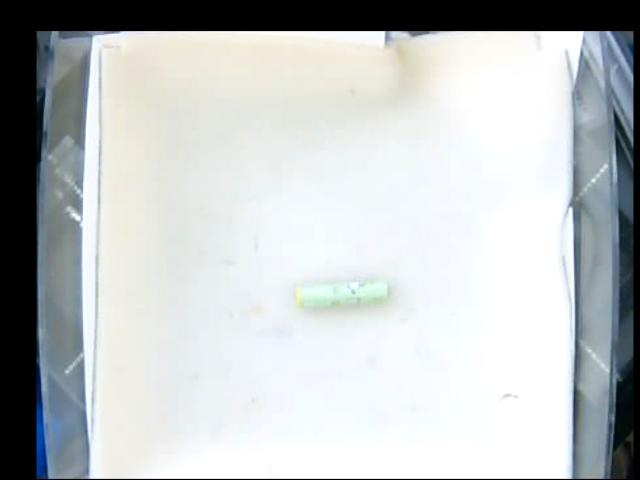Battery: (292, 278, 387, 308)
